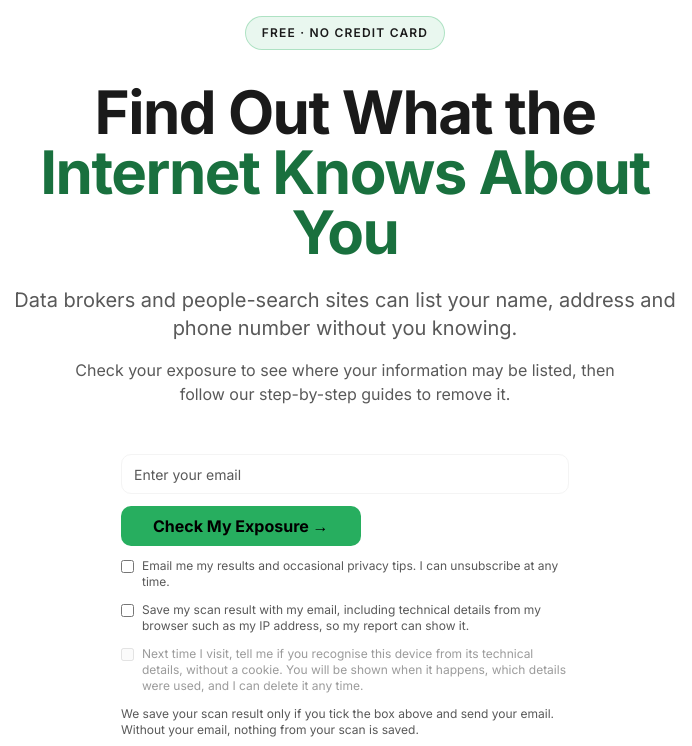
Scan page: the recognise opt-in box (MPC-7494) › un-ticking the save box withdraws the recognise tick and disables the box again
Click the checkbox named "Save my scan result with my email, including technical details from my browser such as my IP address, so my report can s" at [128, 610], box [121,604,134,617]
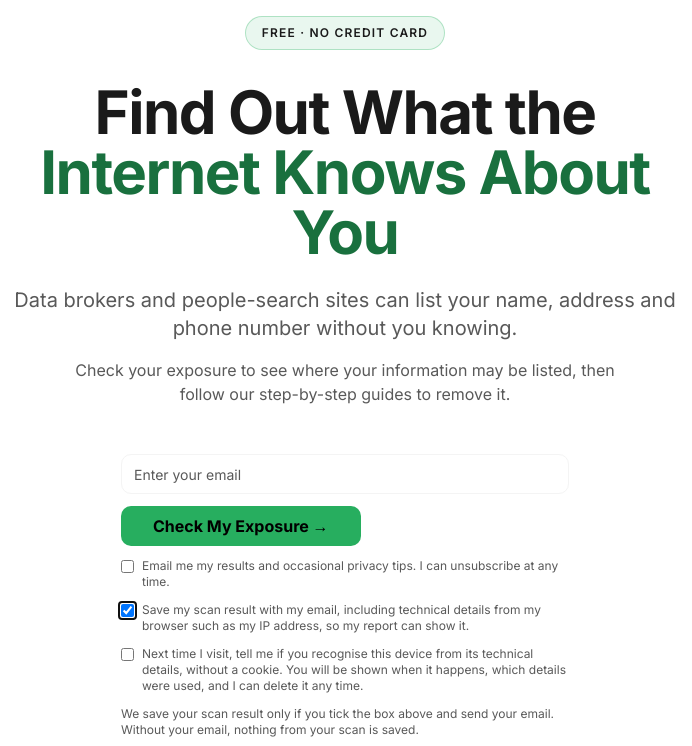
Click the checkbox named "Next time I visit, tell me if you recognise this device from its technical details, without a cookie. You will be shown " at [128, 654], box [121,648,134,661]
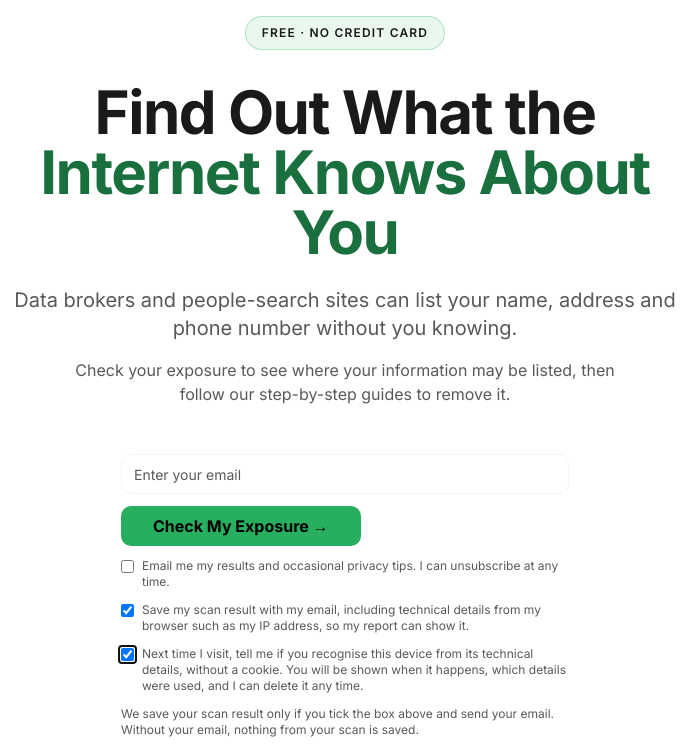
Now the checkbox named "Next time I visit, tell me if you recognise this device from its technical details, without a cookie. You will be shown " is checked, box [121,648,134,661]
Click the checkbox named "Save my scan result with my email, including technical details from my browser such as my IP address, so my report can s" at [128, 610], box [121,604,134,617]
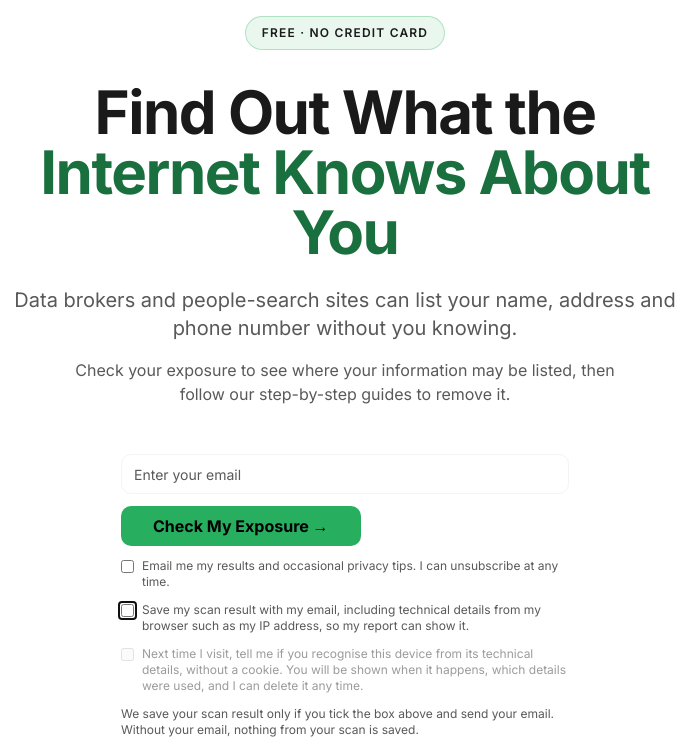
Now the checkbox named "Next time I visit, tell me if you recognise this device from its technical details, without a cookie. You will be shown " is not checked, box [121,648,134,661]
Now the checkbox named "Next time I visit, tell me if you recognise this device from its technical details, without a cookie. You will be shown " is disabled, box [121,648,134,661]
